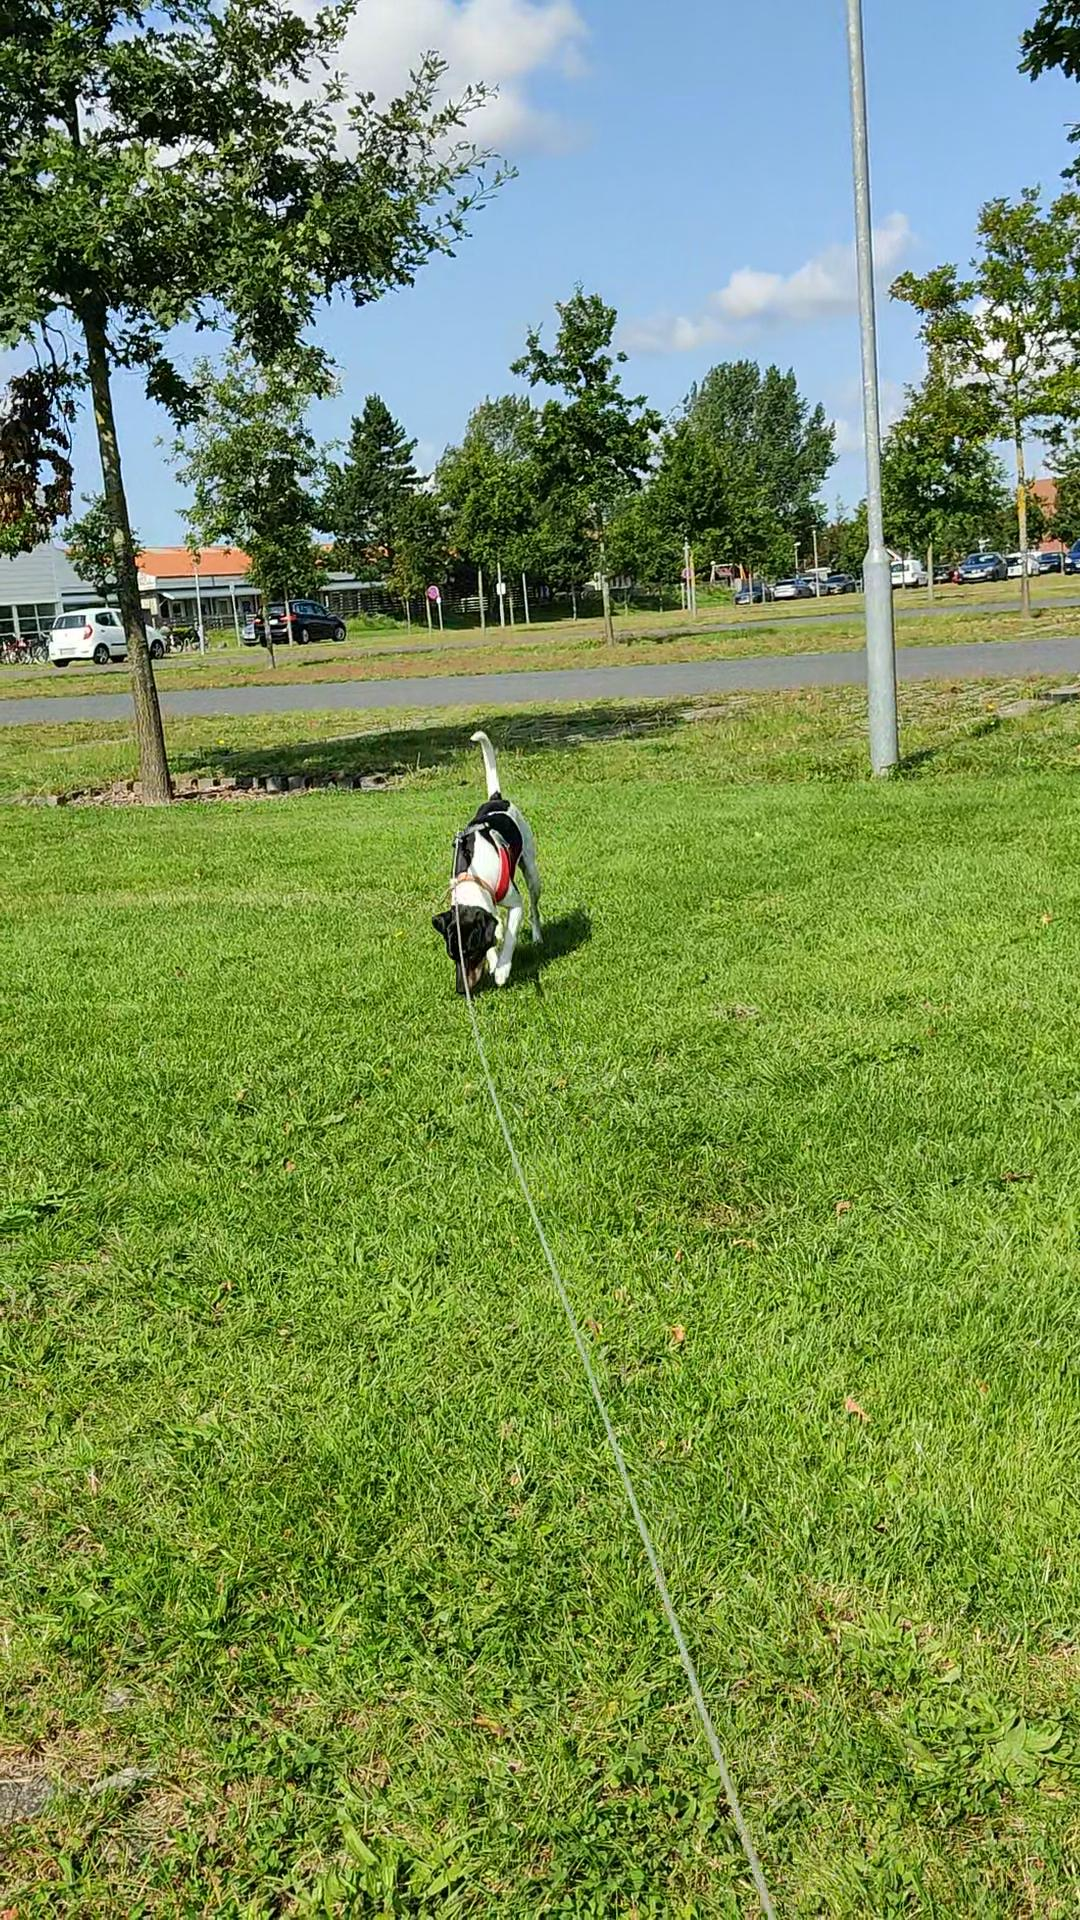Dog: (419, 720, 566, 1006)
